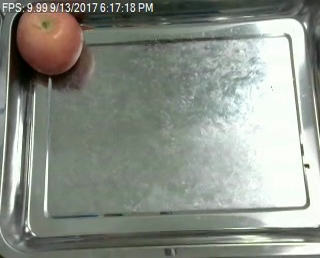Apple: (16, 4, 82, 75)
